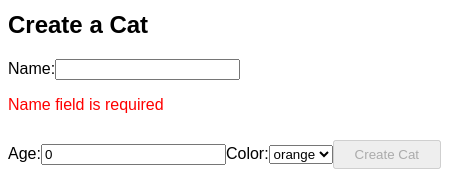
Test: (14 points) CatForm › (1 point) should show a "Name must be fewer than 30 characters" error if name is too long
Type "This name is much more than 30 characters long." into the field labelled "Name: Name field is required".
click(148, 69); type("This name is much more than 30 characters long.")  # box [55, 59, 240, 80]
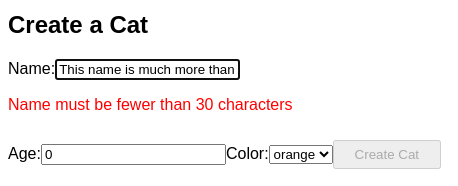
expect the text "Name must be fewer than 30 characters" is shown: met, box [8, 96, 293, 113]
expect the text "Name field is required" is gone: met
